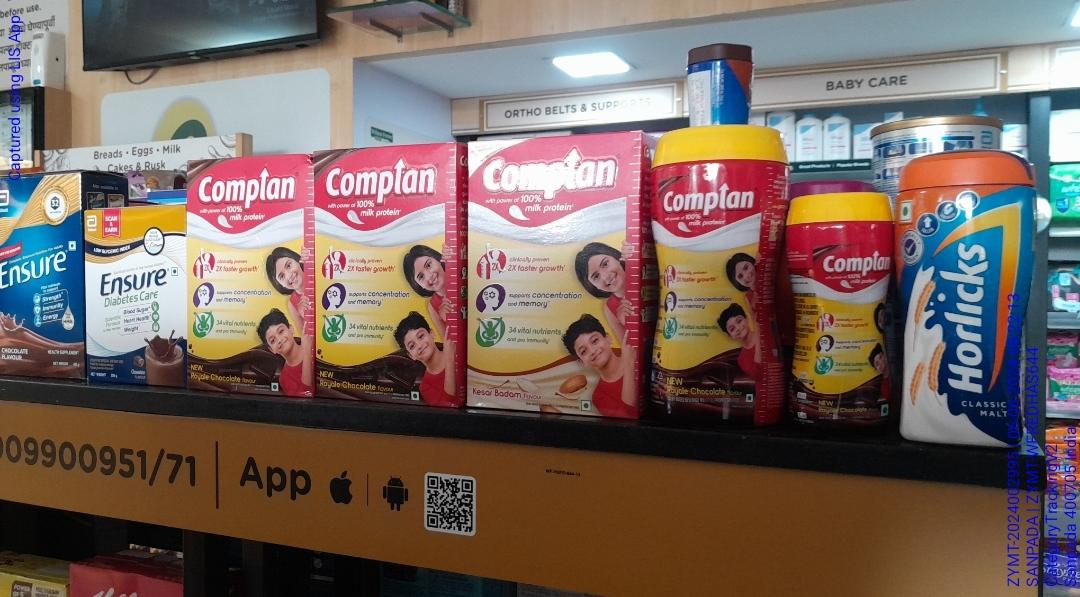COMPLAN_CHOCOLATE_200_GMS_JAR: (784, 188, 898, 420)
COMPLAN_CHOCOLATE_500_GMS_JAR: (654, 120, 767, 425)
COMPLAN_CHOCOLATE_500_GMS_PACK: (323, 146, 456, 400), (187, 160, 318, 395)
COMPLAN_KESAR_BADAM_500_GMS_PACK: (468, 143, 640, 420)
HORLICK_CLASSIC_MALT_500_G_JAR: (900, 148, 1032, 454)
